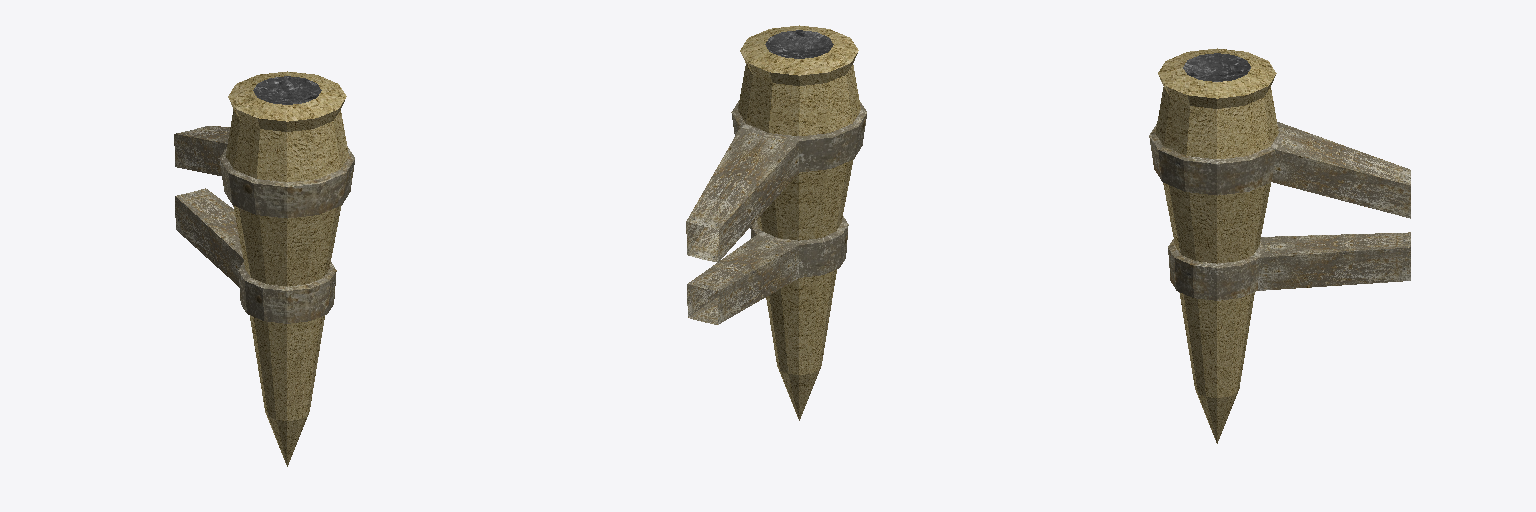
3 views of the same model, side by side, from view 1: azimuth 30°, elevation 25°; view 2: azimuth 150°, elevation 25°; view 3: azimuth 270°, elevation 25° (orthographic).
Visible parts, largest first — view 1: Torch_2; view 2: Torch_2; view 3: Torch_2.
Part boxes in pixels (left/top/right/bottom): Torch_2: left=174, top=71, right=354, bottom=466; Torch_2: left=686, top=25, right=866, bottom=420; Torch_2: left=1149, top=48, right=1410, bottom=443.
Bounding box in the file's own units: 2.9 × 8.85 × 5.57.
3 materials, 3 textured.